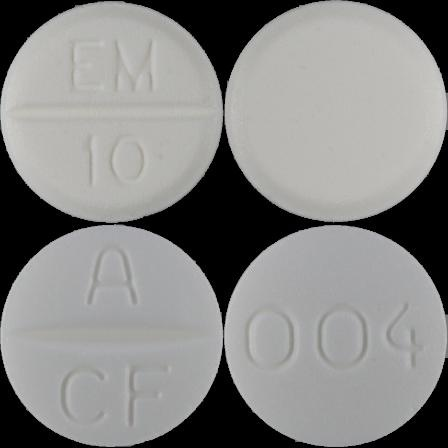49884-641: (0, 0, 224, 224)
